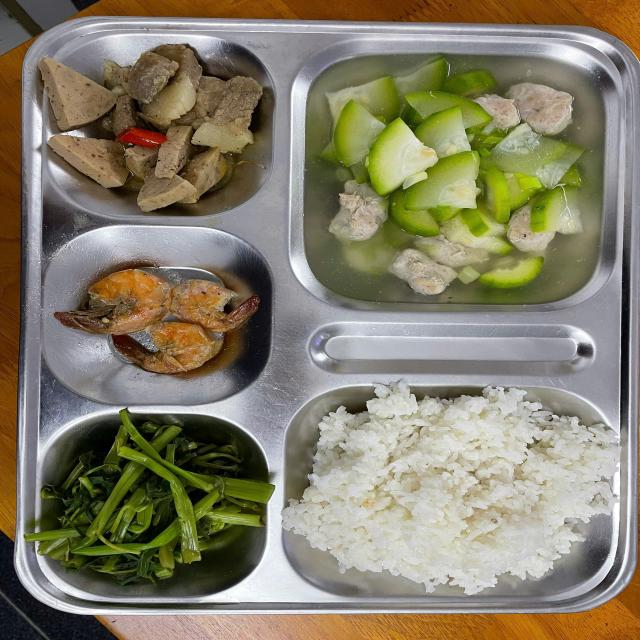canhbau: (308, 61, 594, 302)
giocha: (45, 44, 268, 206)
rauxao: (37, 414, 262, 589)
salad: (298, 403, 614, 602)
thitcathom: (78, 263, 248, 381)
